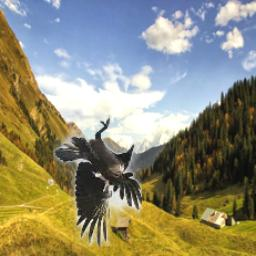Crow: (53, 115, 142, 247)
